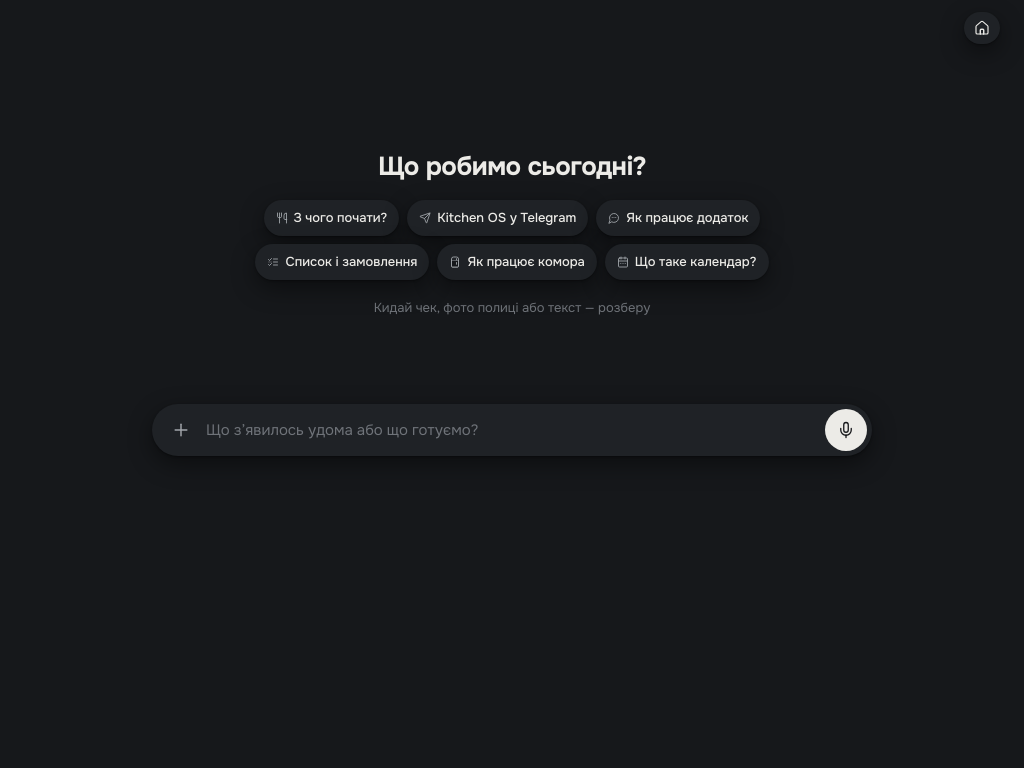
Test: Р123 · порожня розмова <768 (Screens 390) › порожньо: блок є, шість чіпів-довідок; тап → довідка без моделі; блоку Prototype нема
Check: the element that starts with "Що робимо сьогодні?" is shown, box [256,150,768,316]
Check: the heading "Що робимо сьогодні?" is shown, box [378,152,646,182]
Note: Тап → дві репліки одразу (підпис чіпа за людину, канон за Кухню), POST /v1/chat/scripted, моделі — нуль.
Click the button "Як працює комора" at (517, 262), box [437,244,597,280]
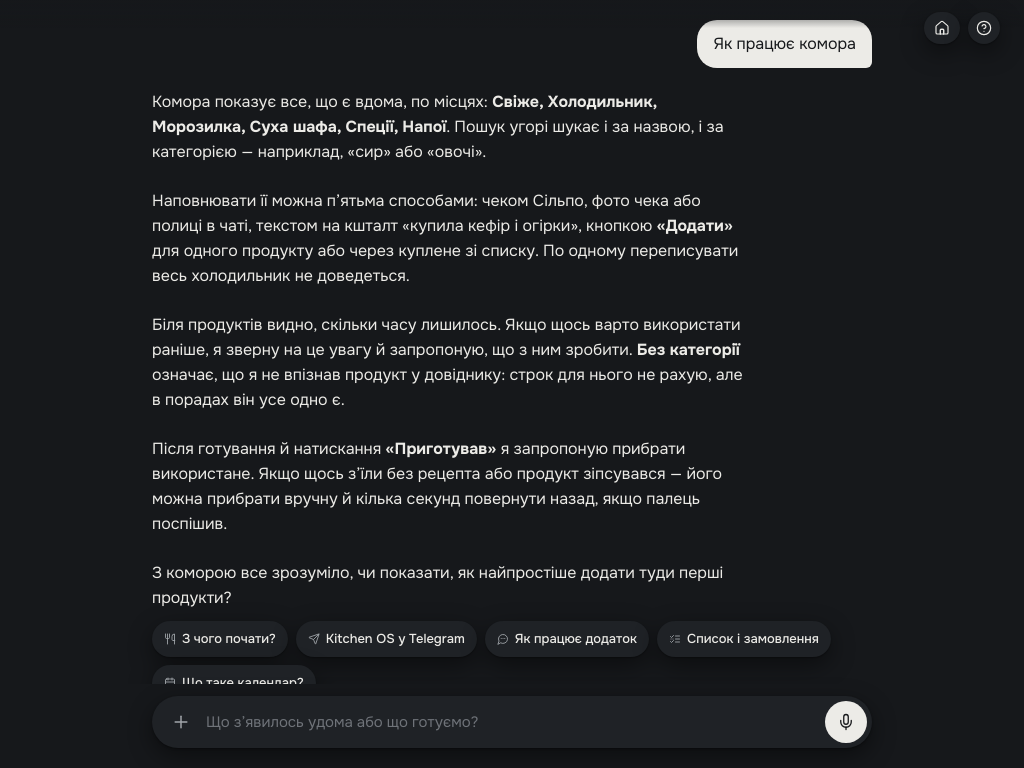
Check: the text box with placeholder "Що зʼявилось удома або що готуємо?" is empty, box [206,701,821,743]
Check: the text "Комора показує все, що є вдома, по місцях" is shown, box [152,91,492,112]
